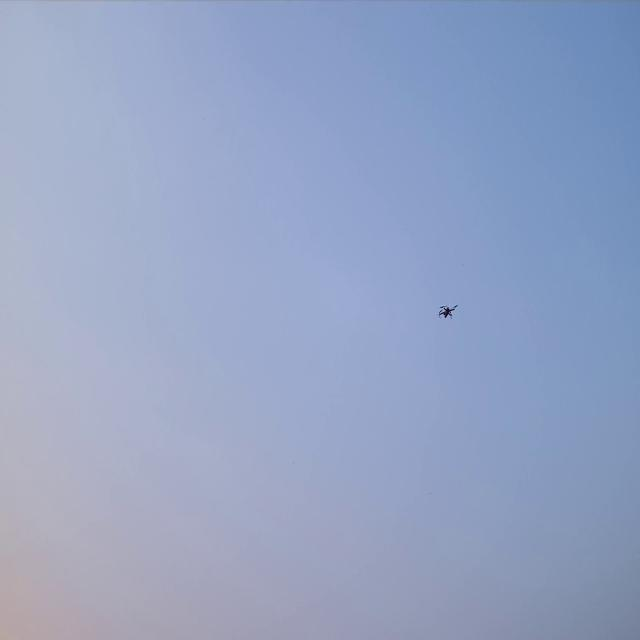UAV: (436, 302, 459, 320)
